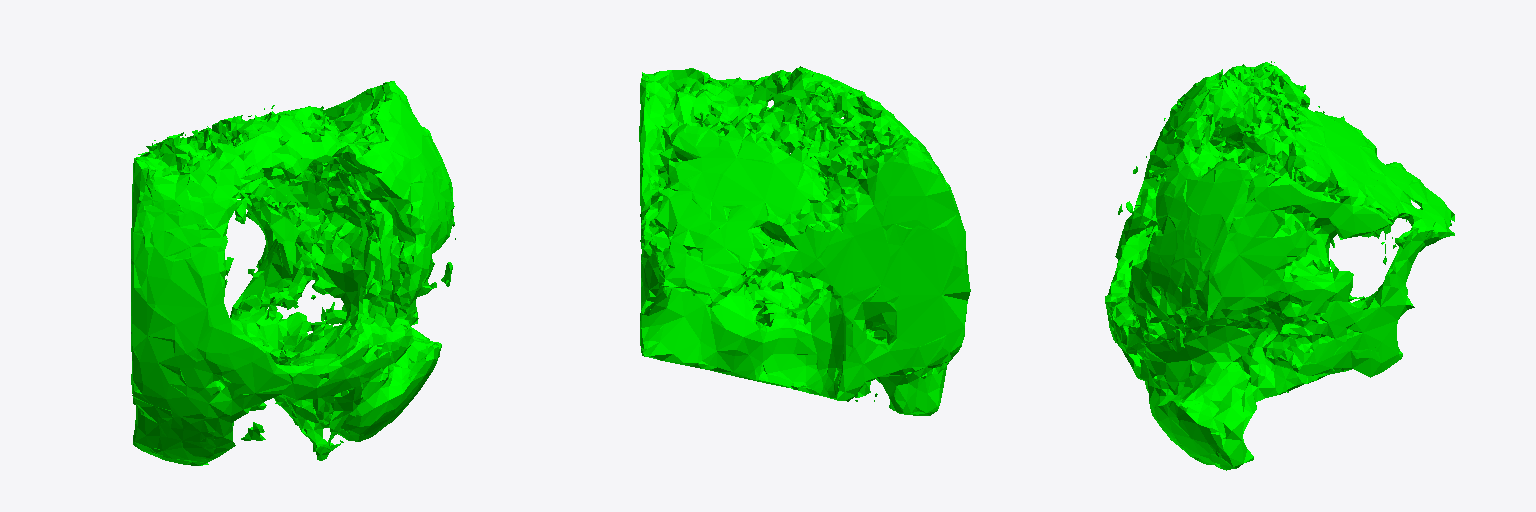
The model's file is B939XXXX-1_base_39.obj.
3 renders of one model, left to right at view 1: azimuth 30°, elevation 25°; view 2: azimuth 150°, elevation 25°; view 3: azimuth 270°, elevation 25°, orthographic.
Parts seen in each view (by area): view 1: 39_base; view 2: 39_base; view 3: 39_base.
Part boxes in pixels (left/top/right/bottom): 39_base: left=131, top=81, right=455, bottom=465; 39_base: left=639, top=66, right=970, bottom=415; 39_base: left=1105, top=61, right=1454, bottom=470.
Size of the model in its own units: 217 by 218 by 202.